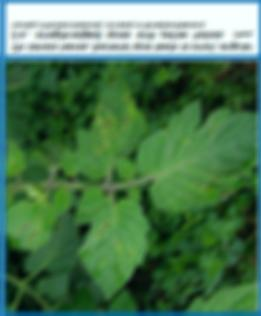Tomato leaf bacterial spot: (137, 101, 257, 218), (76, 185, 157, 299), (69, 79, 145, 182), (4, 193, 59, 253)
